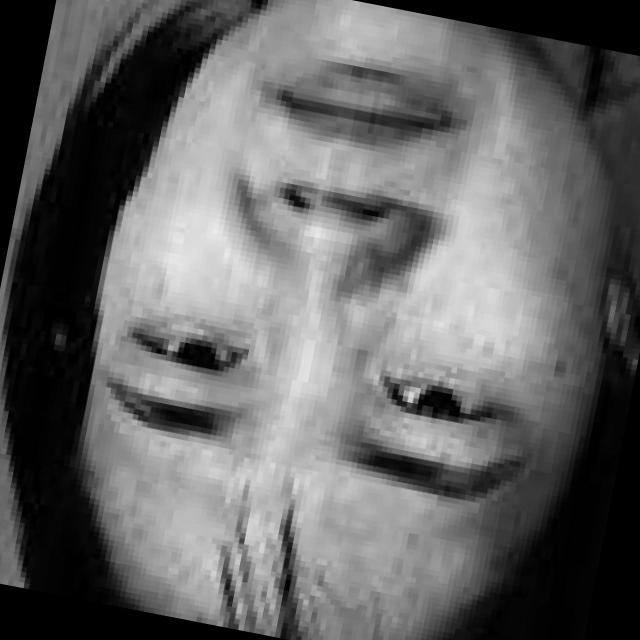disgust: (34, 0, 608, 623)
